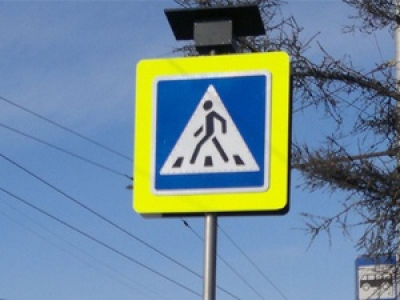crosswalk: (158, 82, 262, 182)
